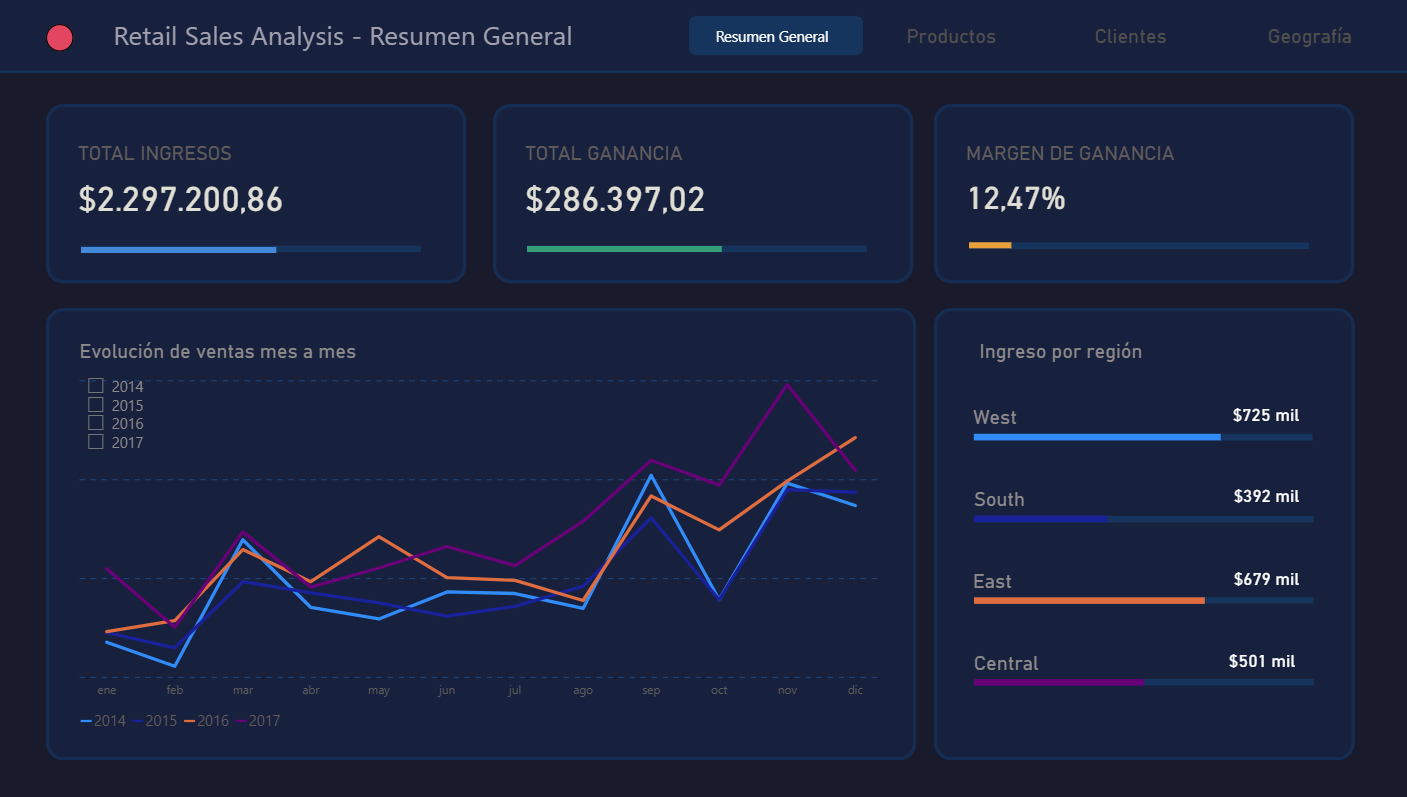

What the dashboard file says about the page in this screenshot:
{"tool":"powerbi","page":{"name":"Resumen General","canvas":[1280,720],"ordinal":0},"visuals":[{"type":"shape","box":[0,0,1280,66.2],"z":0},{"type":"shape","box":[0,60,1280,12.3],"z":1000},{"type":"shape","box":[43,23,25,25],"z":2000},{"type":"textbox","title":"Retail Sales Analysis - Resumen General","box":[98.8,11.2,586.2,48.8],"z":3000},{"type":"shape","box":[626.7,14.4,160,37.2],"z":4000},{"type":"pageNavigator","box":[626.7,12.8,642.2,41.1],"z":5000},{"type":"shape","box":[42.5,281.2,791.2,411.2],"z":6000},{"type":"shape","box":[850,281.2,382.5,411.2],"z":7000},{"type":"cardVisual","fields":{"Data":["Sum(vw_margen_ganancia.Ingresos)"]},"box":[43,95,382,163],"z":8000},{"type":"cardVisual","fields":{"Data":["Sum(vw_margen_ganancia.Ganancia)"]},"box":[449,95,382,163],"z":9000},{"type":"cardVisual","fields":{"Data":["vw_margen_ganancia.Margen Ganancia"]},"box":[850,95,382,163],"z":10000},{"type":"shape","box":[881.9,218.4,309,12.3],"z":11000},{"type":"barChart","fields":{"Y":["Avg(vw_margen_ganancia.MargenPorcentaje)"]},"box":[882,194,309,54],"z":12000},{"type":"shape","box":[480,220.9,309.1,12.6],"z":13000},{"type":"barChart","fields":{"Y":["Sum(vw_margen_ganancia.Ganancia)"]},"box":[480,197.4,309.1,53.5],"z":14000},{"type":"shape","box":[74.3,221.3,309.1,12.6],"z":15000},{"type":"barChart","fields":{"Y":["Sum(vw_margen_ganancia.Ingresos)"]},"box":[74.8,197.8,309.1,53.5],"z":16000},{"type":"lineChart","title":"Evolución de ventas mes a mes","fields":{"Category":["vw_evolucion_ventas.NombreMes"],"Y":["Sum(vw_evolucion_ventas.Ingresos)"],"Series":["vw_evolucion_ventas.Año"]},"box":[68,309,740,366],"z":17000},{"type":"textbox","title":"Ingreso por región","box":[886,309,163,27],"z":18000},{"type":"shape","box":[885.7,391.7,308.7,13],"z":19000},{"type":"shape","box":[886.5,466.1,308.7,13],"z":20000},{"type":"shape","box":[886.1,540.4,308.7,13],"z":21000},{"type":"shape","box":[886.1,614.8,308.7,13],"z":22000},{"type":"clusteredBarChart","title":"Ingresos por región","fields":{"Category":["vw_ventas_por_region.Region"],"Y":["Sum(vw_ventas_por_region.Ingresos)"],"Series":["vw_ventas_por_region.Region"]},"box":[886.1,387.4,309.1,237],"z":23000},{"type":"cardVisual","fields":{"Data":["Sum(vw_ventas_por_region.Ingresos)"]},"box":[1059.2,510.8,135.8,30],"z":24000},{"type":"cardVisual","fields":{"Data":["Sum(vw_ventas_por_region.Ingresos)"]},"box":[1059.2,435.8,135.8,30],"z":25000},{"type":"cardVisual","fields":{"Data":["Sum(vw_ventas_por_region.Ingresos)"]},"box":[1059.2,361.7,135.8,30],"z":26000},{"type":"cardVisual","fields":{"Data":["Sum(vw_ventas_por_region.Ingresos)"]},"box":[1055,585,135.8,30],"z":27000},{"type":"textbox","title":"West","box":[885.8,369.2,163.3,22.5],"z":28000},{"type":"textbox","title":"South","box":[886.7,443.3,163.3,22.5],"z":29000},{"type":"textbox","title":"East","box":[885.8,518.3,163.3,22.5],"z":30000},{"type":"textbox","title":"Central","box":[886.7,592.5,163.3,22.5],"z":31000},{"type":"slicer","fields":{"Values":["vw_evolucion_ventas.Año"]},"box":[68,338,84,78],"z":32000}]}

Visuals, with their boxes in screenshot pixels (x1, y1, x2, y2), scaled from the page's 1280x720 canvas onto the 1407x797 screenshot:
shape: [left=0, top=0, right=1406, bottom=73]
shape: [left=0, top=66, right=1406, bottom=80]
shape: [left=47, top=25, right=75, bottom=53]
"Retail Sales Analysis - Resumen General" textbox: [left=109, top=12, right=753, bottom=66]
shape: [left=689, top=16, right=865, bottom=57]
pageNavigator: [left=689, top=14, right=1395, bottom=60]
shape: [left=47, top=311, right=916, bottom=766]
shape: [left=934, top=311, right=1355, bottom=766]
cardVisual - Sum(vw_margen_ganancia.Ingresos): [left=47, top=105, right=467, bottom=286]
cardVisual - Sum(vw_margen_ganancia.Ganancia): [left=494, top=105, right=913, bottom=286]
cardVisual - vw_margen_ganancia.Margen Ganancia: [left=934, top=105, right=1354, bottom=286]
shape: [left=969, top=242, right=1309, bottom=255]
barChart - Avg(vw_margen_ganancia.MargenPorcentaje): [left=970, top=215, right=1309, bottom=275]
shape: [left=528, top=245, right=867, bottom=258]
barChart - Sum(vw_margen_ganancia.Ganancia): [left=528, top=219, right=867, bottom=278]
shape: [left=82, top=245, right=421, bottom=259]
barChart - Sum(vw_margen_ganancia.Ingresos): [left=82, top=219, right=422, bottom=278]
"Evolución de ventas mes a mes" lineChart: [left=75, top=342, right=888, bottom=747]
"Ingreso por región" textbox: [left=974, top=342, right=1153, bottom=372]
shape: [left=974, top=434, right=1313, bottom=448]
shape: [left=974, top=516, right=1314, bottom=530]
shape: [left=974, top=598, right=1313, bottom=613]
shape: [left=974, top=681, right=1313, bottom=695]
"Ingresos por región" clusteredBarChart: [left=974, top=429, right=1314, bottom=691]
cardVisual - Sum(vw_ventas_por_region.Ingresos): [left=1164, top=565, right=1314, bottom=599]
cardVisual - Sum(vw_ventas_por_region.Ingresos): [left=1164, top=482, right=1314, bottom=516]
cardVisual - Sum(vw_ventas_por_region.Ingresos): [left=1164, top=400, right=1314, bottom=434]
cardVisual - Sum(vw_ventas_por_region.Ingresos): [left=1160, top=648, right=1309, bottom=681]
"West" textbox: [left=974, top=409, right=1153, bottom=434]
"South" textbox: [left=975, top=491, right=1154, bottom=516]
"East" textbox: [left=974, top=574, right=1153, bottom=599]
"Central" textbox: [left=975, top=656, right=1154, bottom=681]
slicer - vw_evolucion_ventas.Año: [left=75, top=374, right=167, bottom=460]
